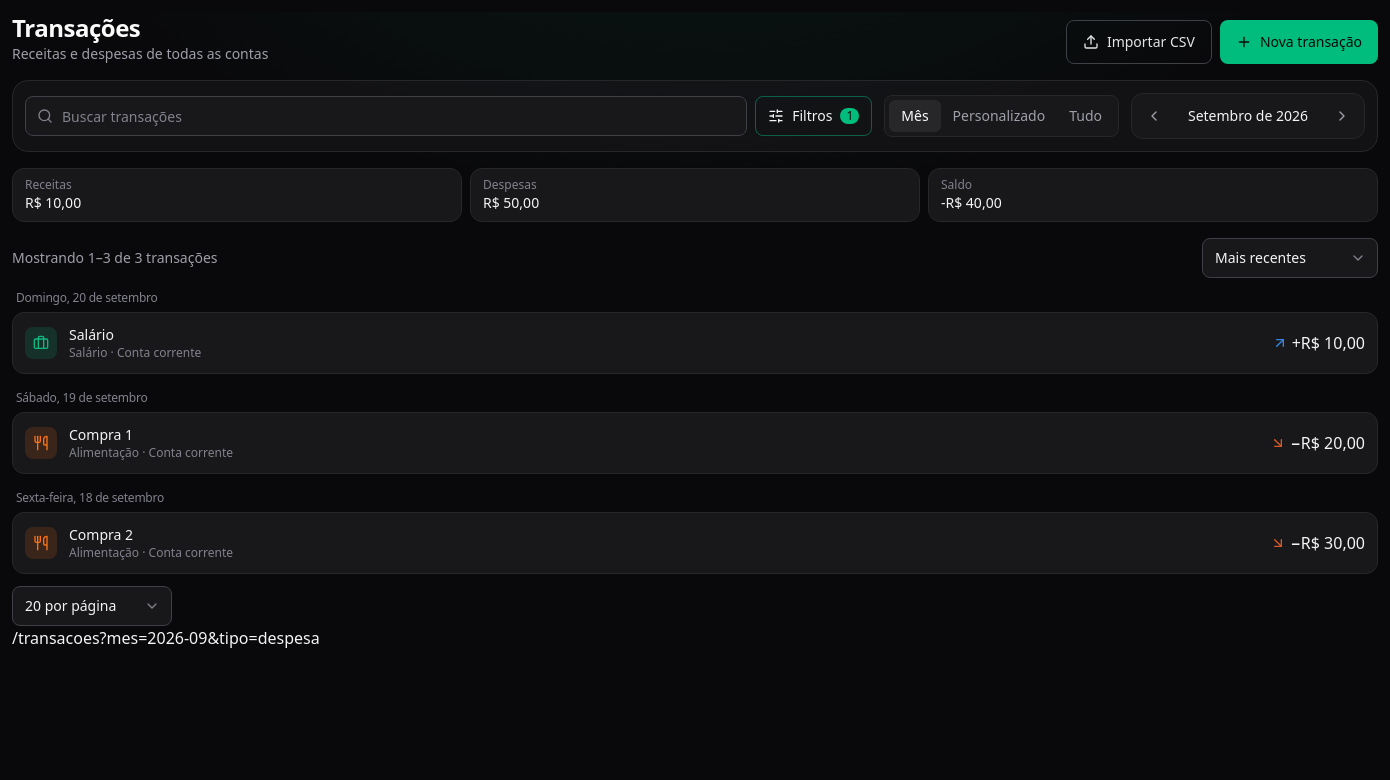
Test case: TransactionsPage › on phones, folds the filters behind a button and shows cards grouped by day
The width and height of the screenshot is (1390, 780).
Expected: the element "Domingo, 20 de setembro" is shown, [12, 290, 1378, 374]
Click the button "Filtros 1".
click(814, 116)  # box [755, 96, 872, 136]
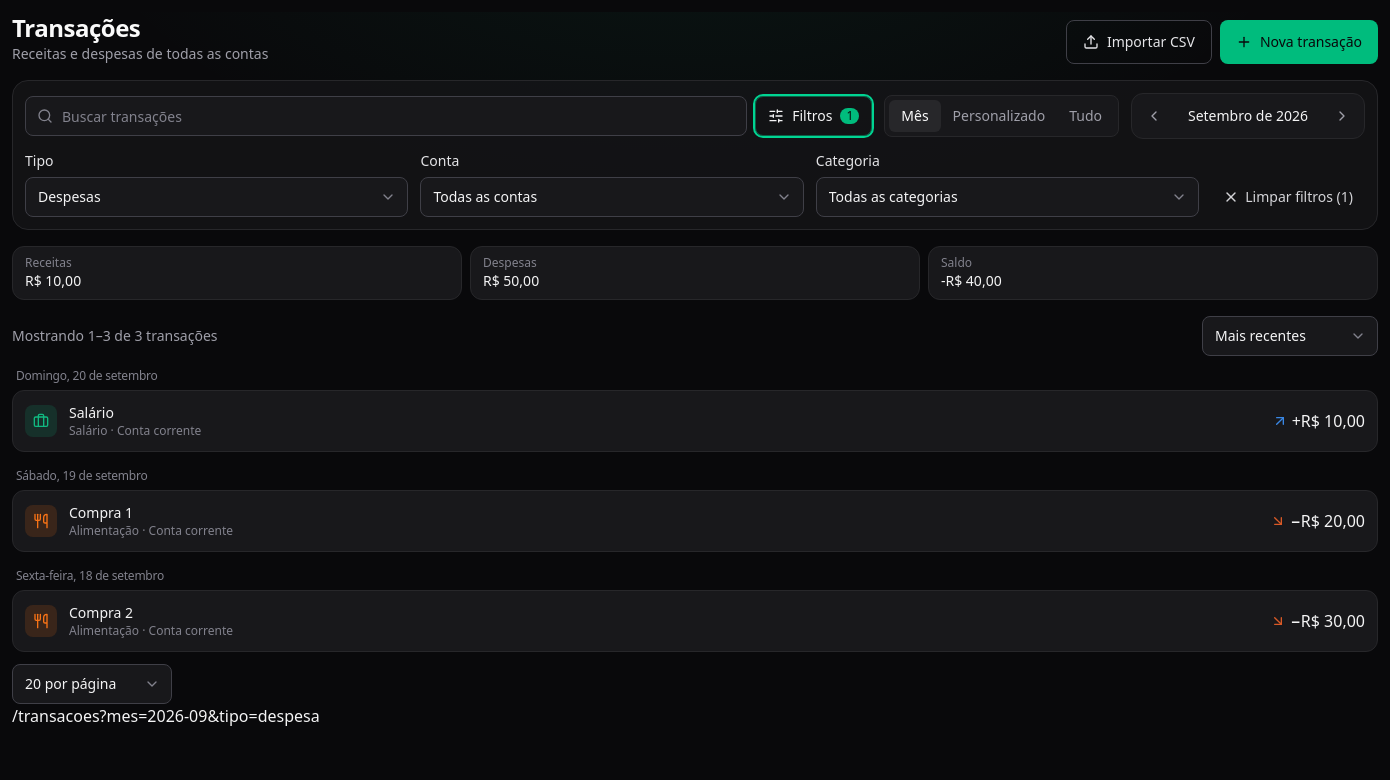
Now the dropdown labelled "Tipo" shows "Despesas", box [25, 177, 408, 217]
